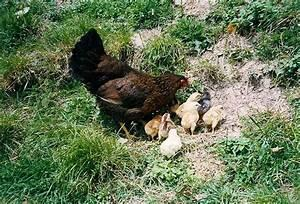hen: (66, 27, 189, 139)
